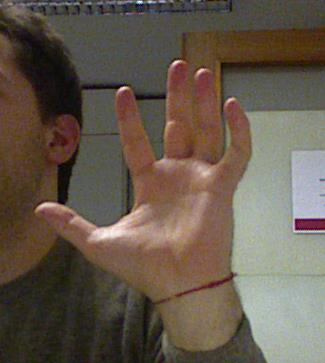down: (30, 59, 261, 297)
